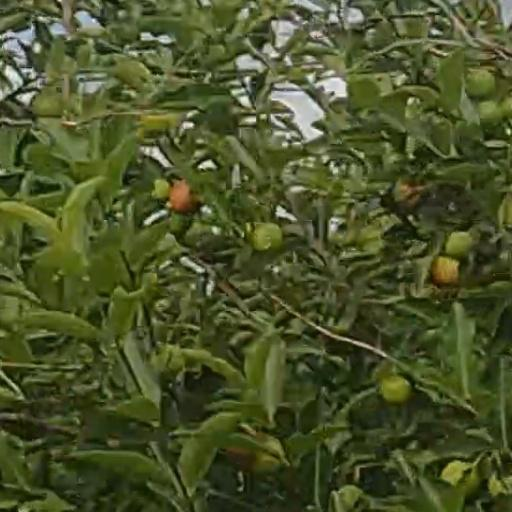acerola_verde: (467, 68, 492, 100), (381, 378, 411, 404), (255, 226, 282, 251)
acerola_vermelha: (172, 184, 201, 214), (434, 258, 458, 285)
